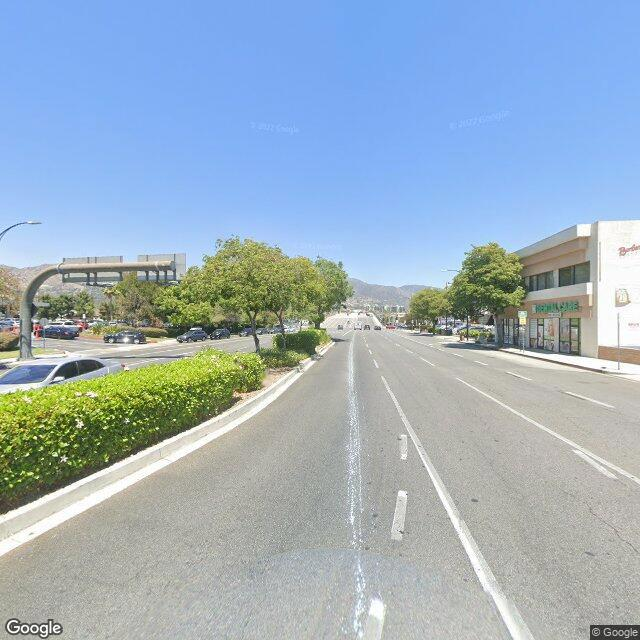crack: (557, 485, 639, 583)
